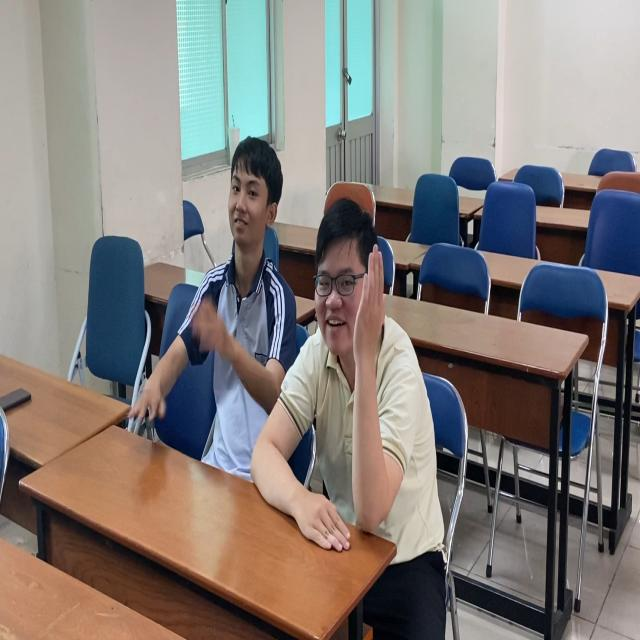raise_hand: (301, 199, 436, 548)
